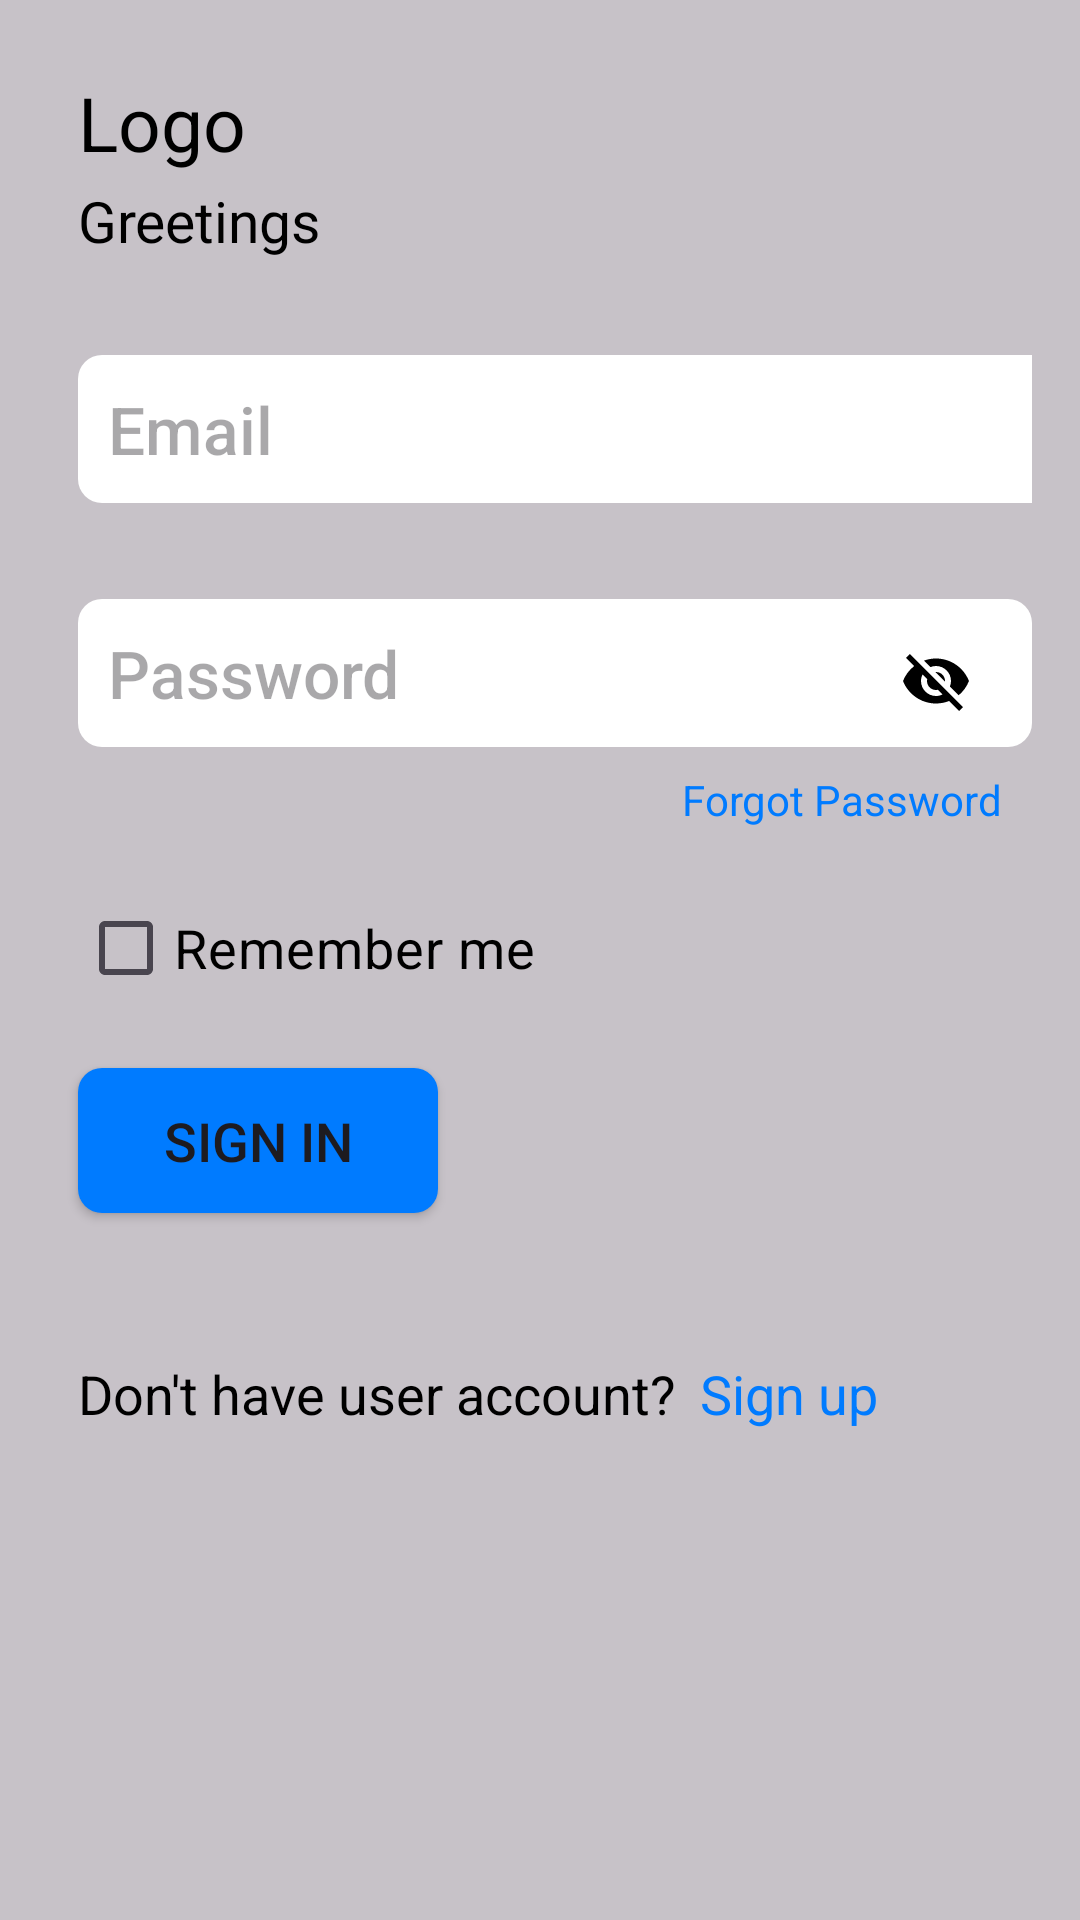

Screen size 1080*1920. Icon name, then its box in pixels as (x1, y1, x2, y2):
visibility off: (903, 654, 969, 711)
